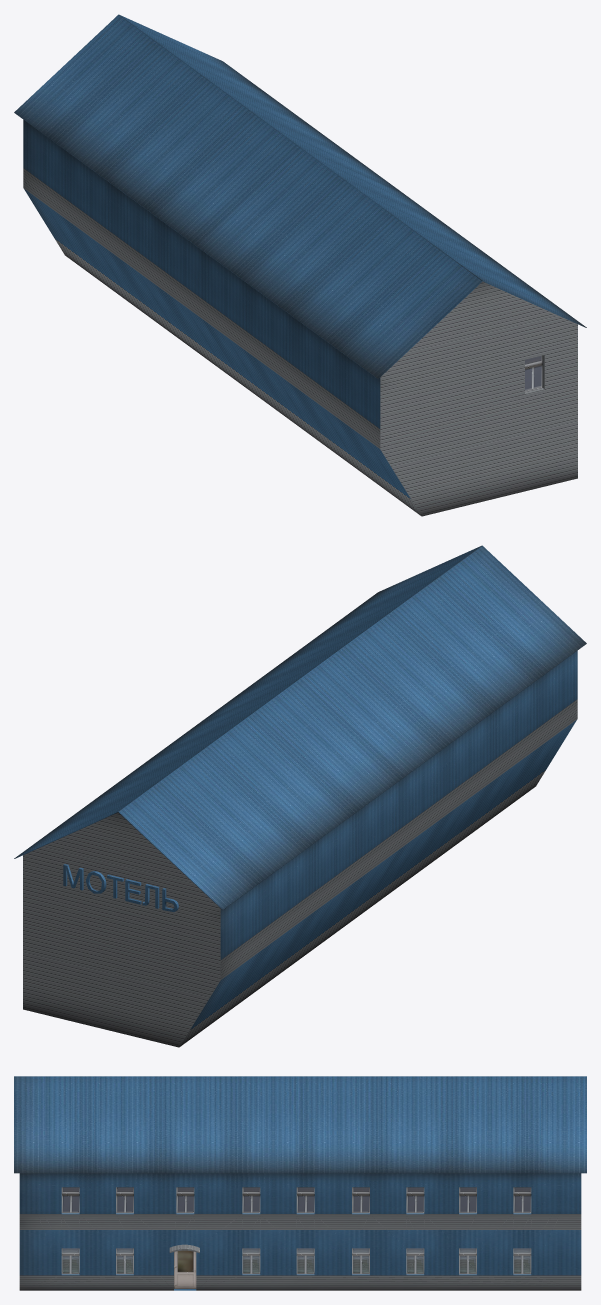
File: r402_kr_yar_motel.FBX
3 views of the same model, one above another, from view 1: azimuth 30°, elevation 25°; view 2: azimuth 150°, elevation 25°; view 3: azimuth 270°, elevation 25° (orthographic). The views are drawn at different scales.
Visible parts, largest first — view 1: r402_kr_yar_motel; view 2: r402_kr_yar_motel; view 3: r402_kr_yar_motel.
Boxes of the visible parts, x1=… form: r402_kr_yar_motel: x1=14, y1=14, x2=586, y2=516; r402_kr_yar_motel: x1=14, y1=545, x2=586, y2=1047; r402_kr_yar_motel: x1=14, y1=1076, x2=586, y2=1290.
Bounding box in the file's own units: 8.69 × 25.5 × 8.68.
